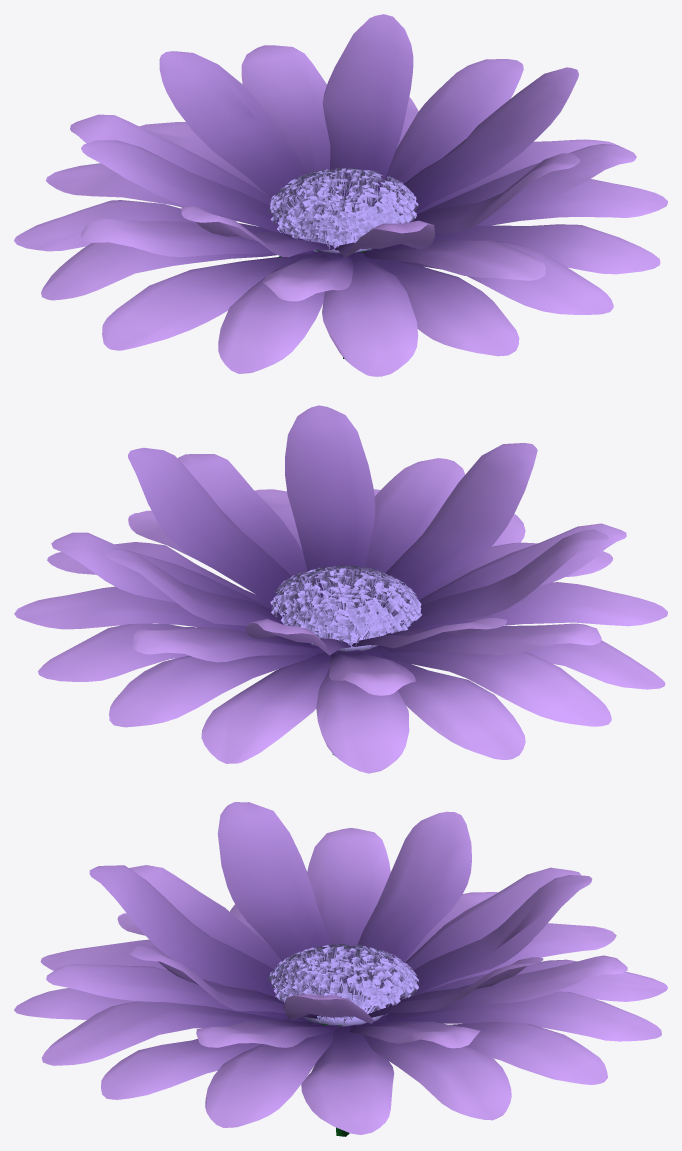
3 views of the same model, one above another, from view 1: azimuth 30°, elevation 25°; view 2: azimuth 150°, elevation 25°; view 3: azimuth 270°, elevation 25° (orthographic).
Visible parts, largest first — view 1: flover.002; view 2: flover.002; view 3: flover.002.
Boxes of the visible parts, box(x1,y1,x2,y2) form: flover.002: box(14, 14, 667, 376); flover.002: box(14, 405, 667, 773); flover.002: box(14, 802, 667, 1136).
Size of the model in its own units: 0.5 by 0.2036 by 0.4998.
3 materials, 1 textured.
